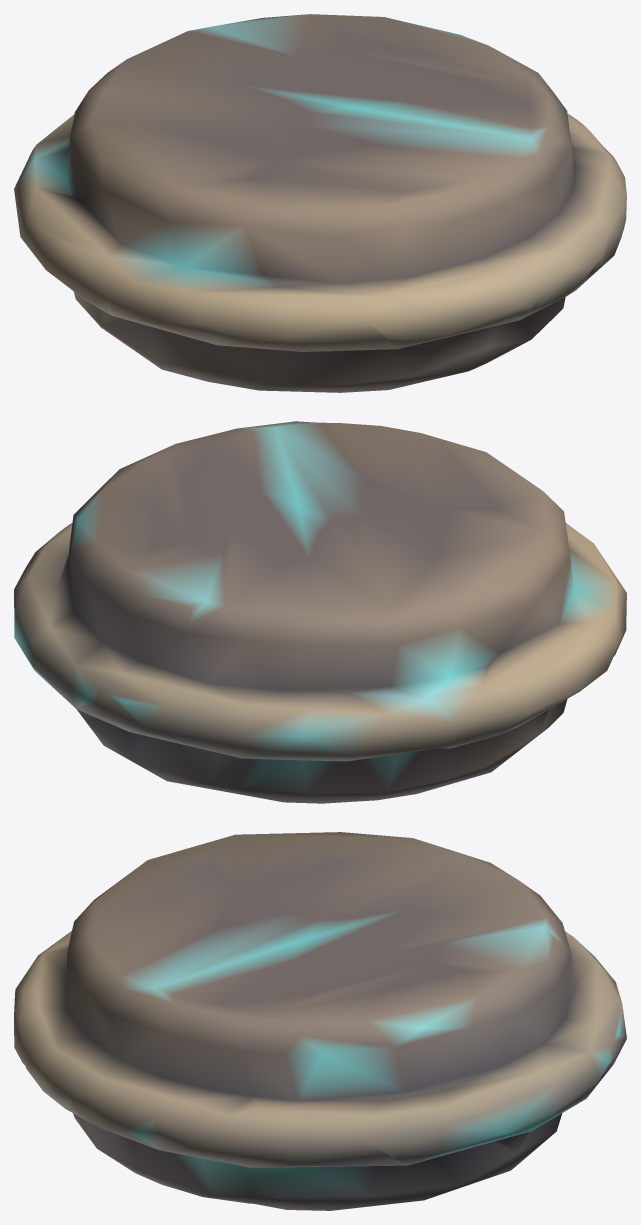
Rendered from burrower_seg4.glb.
The picture shows the model from 3 angles, top to bottom: view 1: azimuth 30°, elevation 25°; view 2: azimuth 150°, elevation 25°; view 3: azimuth 270°, elevation 25°; orthographic projection.
Parts seen in each view (by area): view 1: geometry_0; view 2: geometry_0; view 3: geometry_0.
Boxes of the visible parts, bbox=[...] form: geometry_0: bbox=[14, 14, 626, 392]; geometry_0: bbox=[14, 421, 626, 803]; geometry_0: bbox=[14, 832, 626, 1210].
Size of the model in its own units: 1 by 0.34 by 0.9969.
